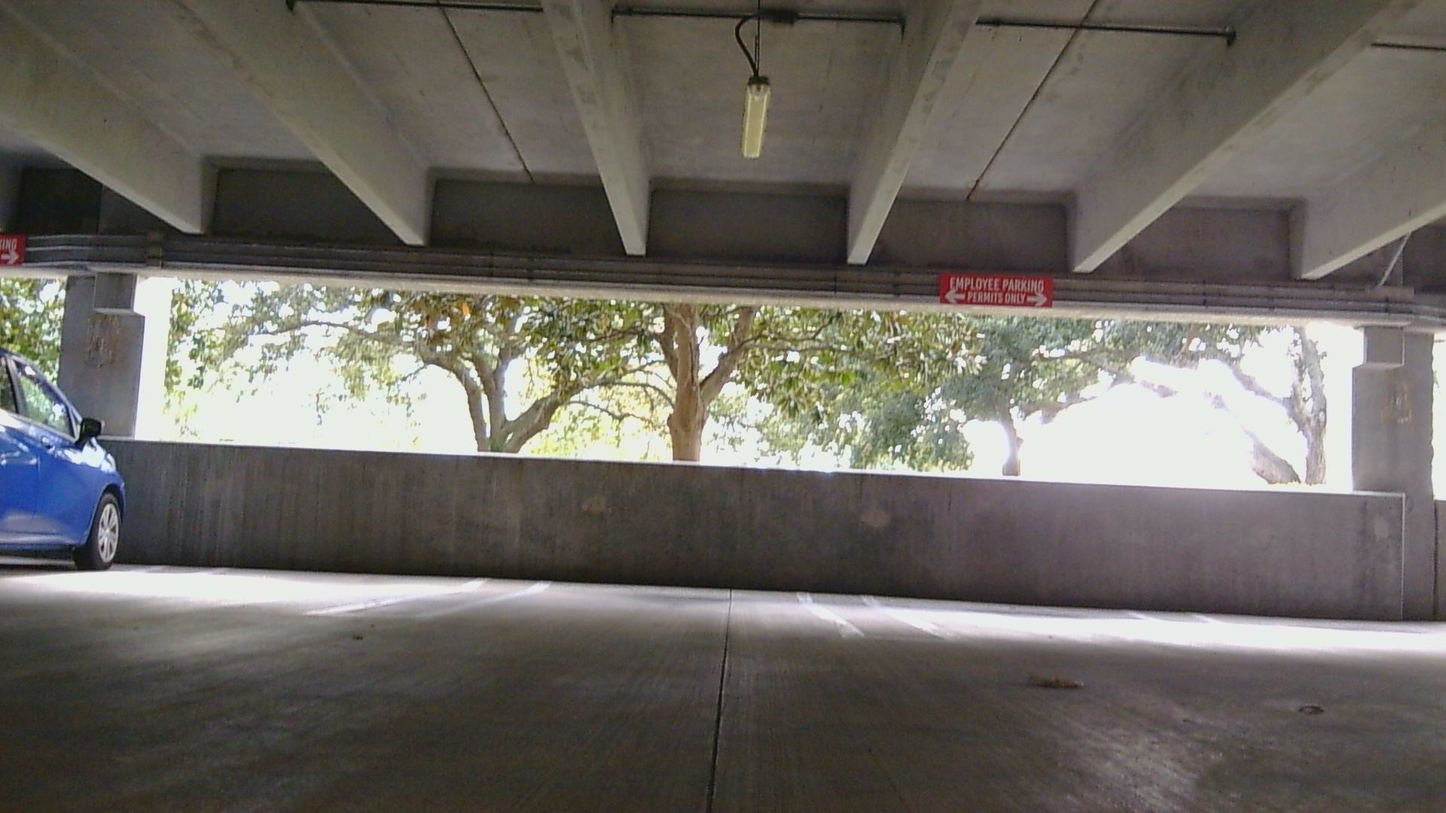empty_spot: (843, 521, 1446, 658), (0, 467, 508, 622), (406, 494, 896, 631)
occupied_spot: (1, 348, 127, 579)
